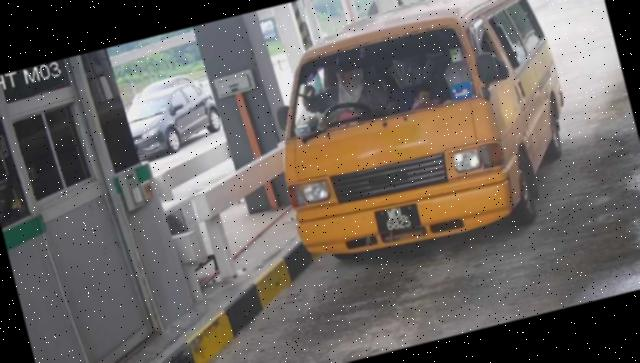License_Plate: (372, 200, 425, 241)
van: (252, 1, 592, 279)
